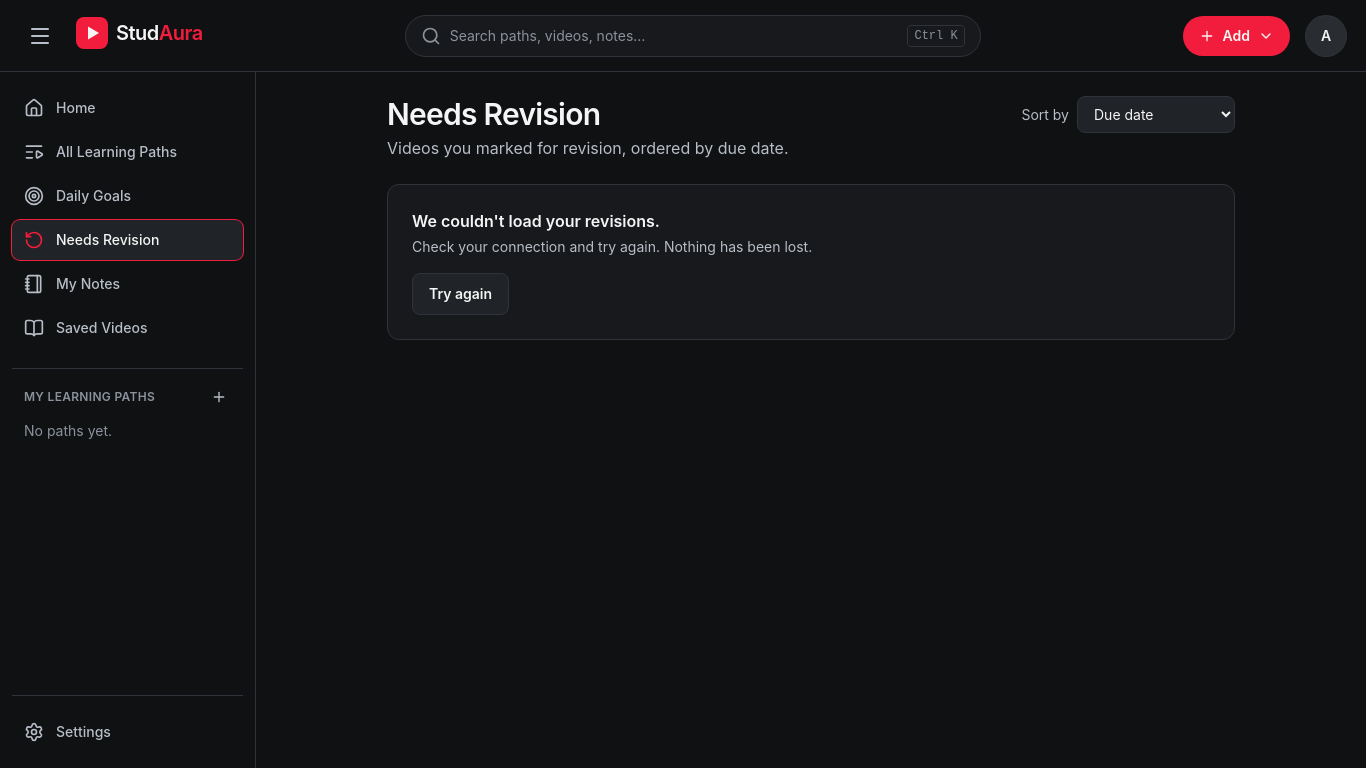
Test: Needs Revision page › offers a retry when the queue cannot be loaded
Check: the message shows "couldn't load your revisions", box top-left (412, 211), bottom-right (660, 231)
Click the button "Try again" at (461, 294), box top-left (412, 273), bottom-right (509, 315)
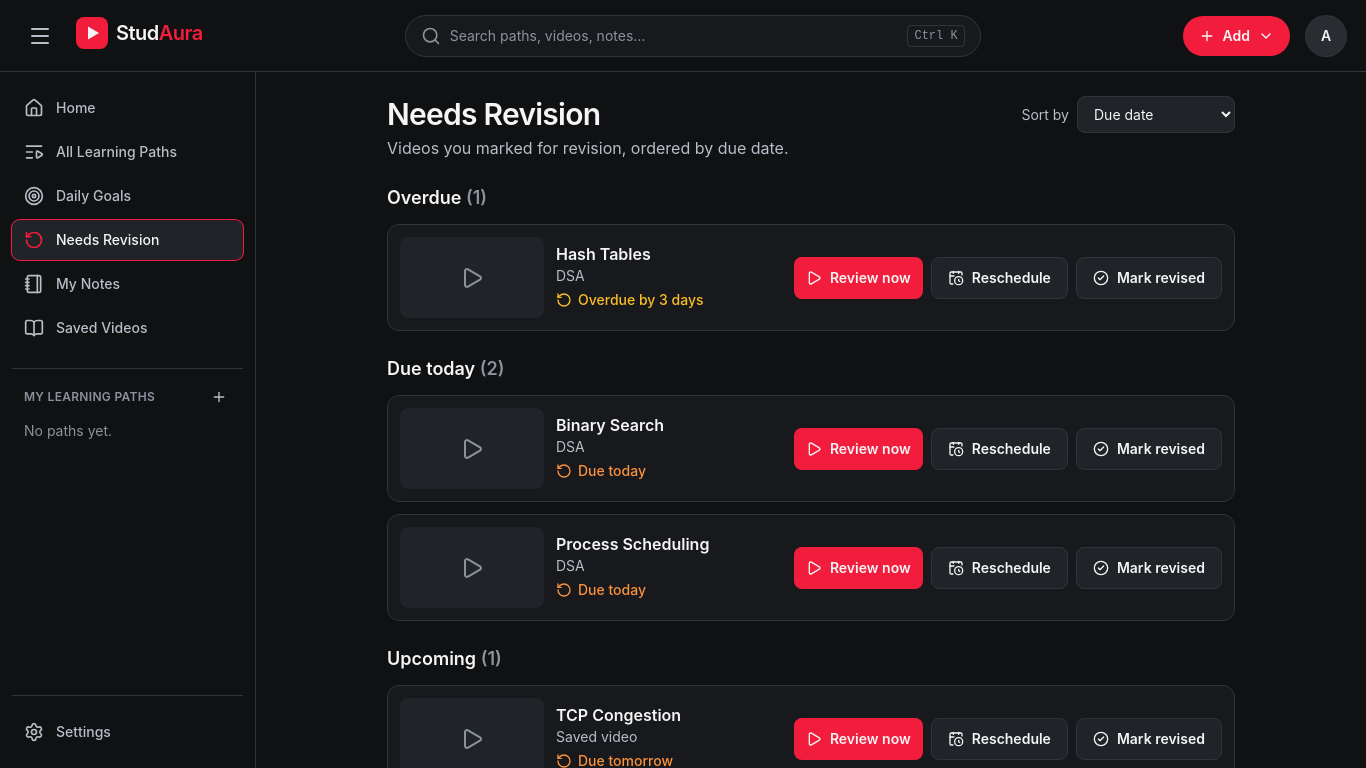
Check: the heading "Hash Tables" is shown, box top-left (556, 244), bottom-right (651, 264)
